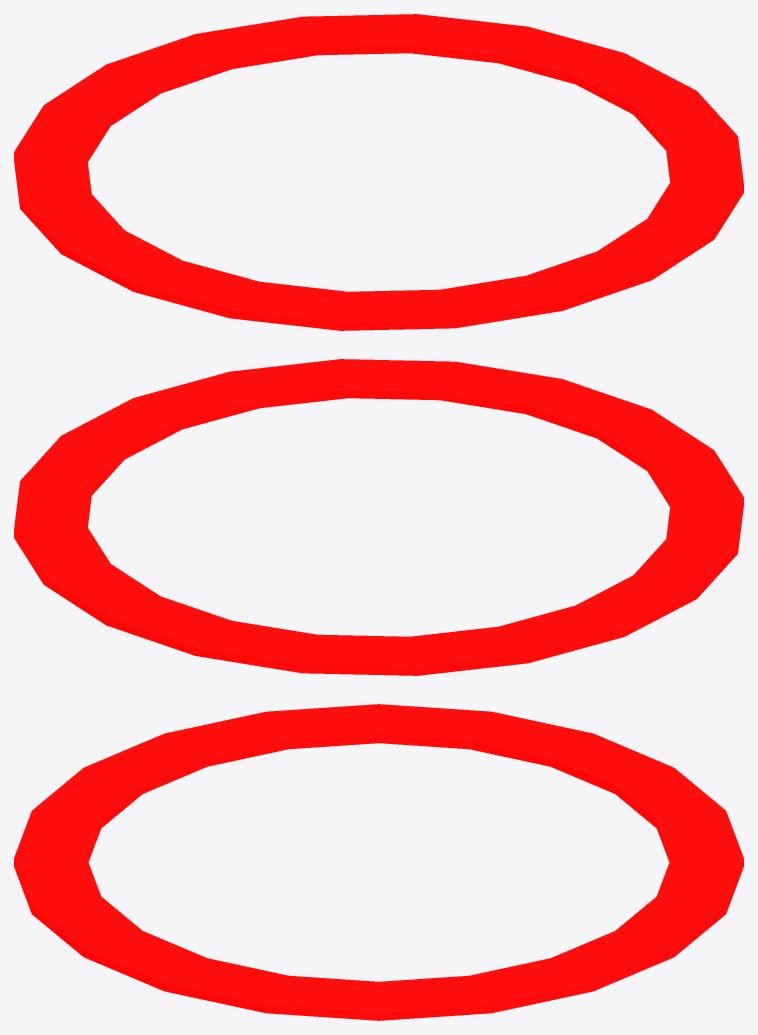
Rendered from CylinderTubeThin.gltf.
3 renders of one model, top to bottom at view 1: azimuth 30°, elevation 25°; view 2: azimuth 150°, elevation 25°; view 3: azimuth 270°, elevation 25°, orthographic.
Visible parts, largest first — view 1: RootNode; view 2: RootNode; view 3: RootNode.
Part boxes in pixels (x1=…): RootNode: x1=14, y1=14, x2=743, y2=330; RootNode: x1=14, y1=359, x2=743, y2=675; RootNode: x1=14, y1=704, x2=743, y2=1020.
Size of the model in its own units: 0.8 by 0.01 by 0.8.
